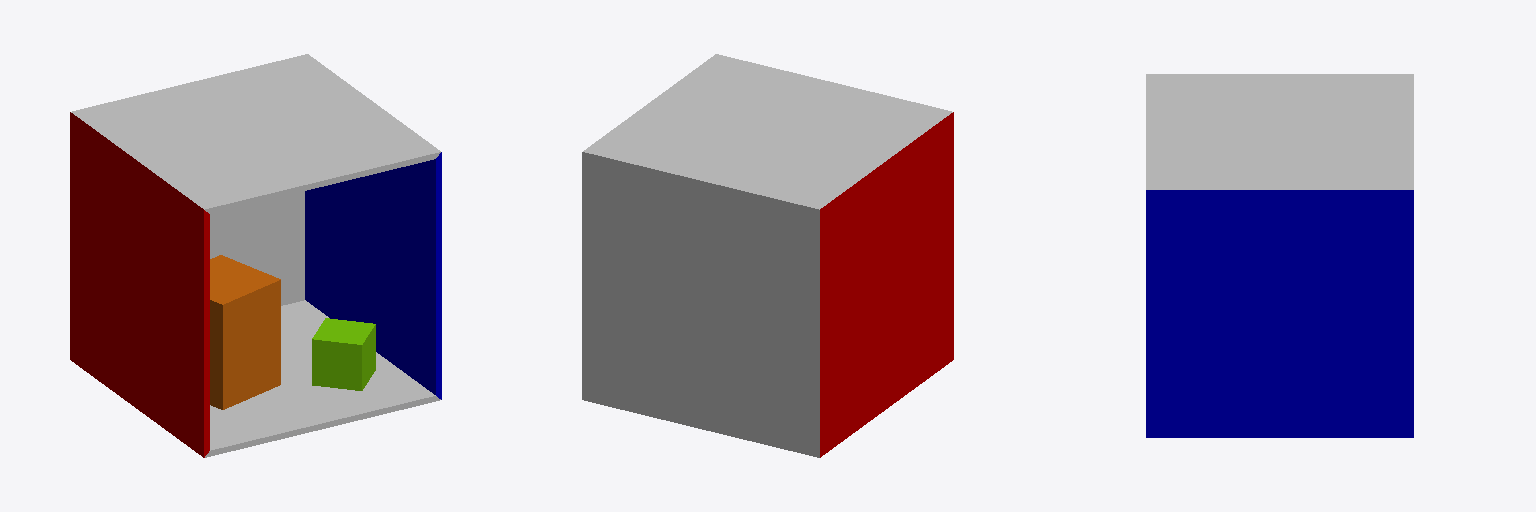
Rendered from CornellBox.obj.
3 views of the same model, side by side, from view 1: azimuth 30°, elevation 25°; view 2: azimuth 150°, elevation 25°; view 3: azimuth 270°, elevation 25° (orthographic).
Visible parts, largest first — view 1: Cube, Cube.002, Cube.001; view 2: Cube; view 3: Cube.
Part boxes in pixels (x1,y1,x2,y2): Cube: (70, 54, 441, 457); Cube.002: (210, 255, 280, 409); Cube.001: (312, 318, 375, 390); Cube: (582, 54, 953, 457); Cube: (1146, 74, 1413, 437).
Bounding box in the file's own units: 2.1 × 2.1 × 2.05.